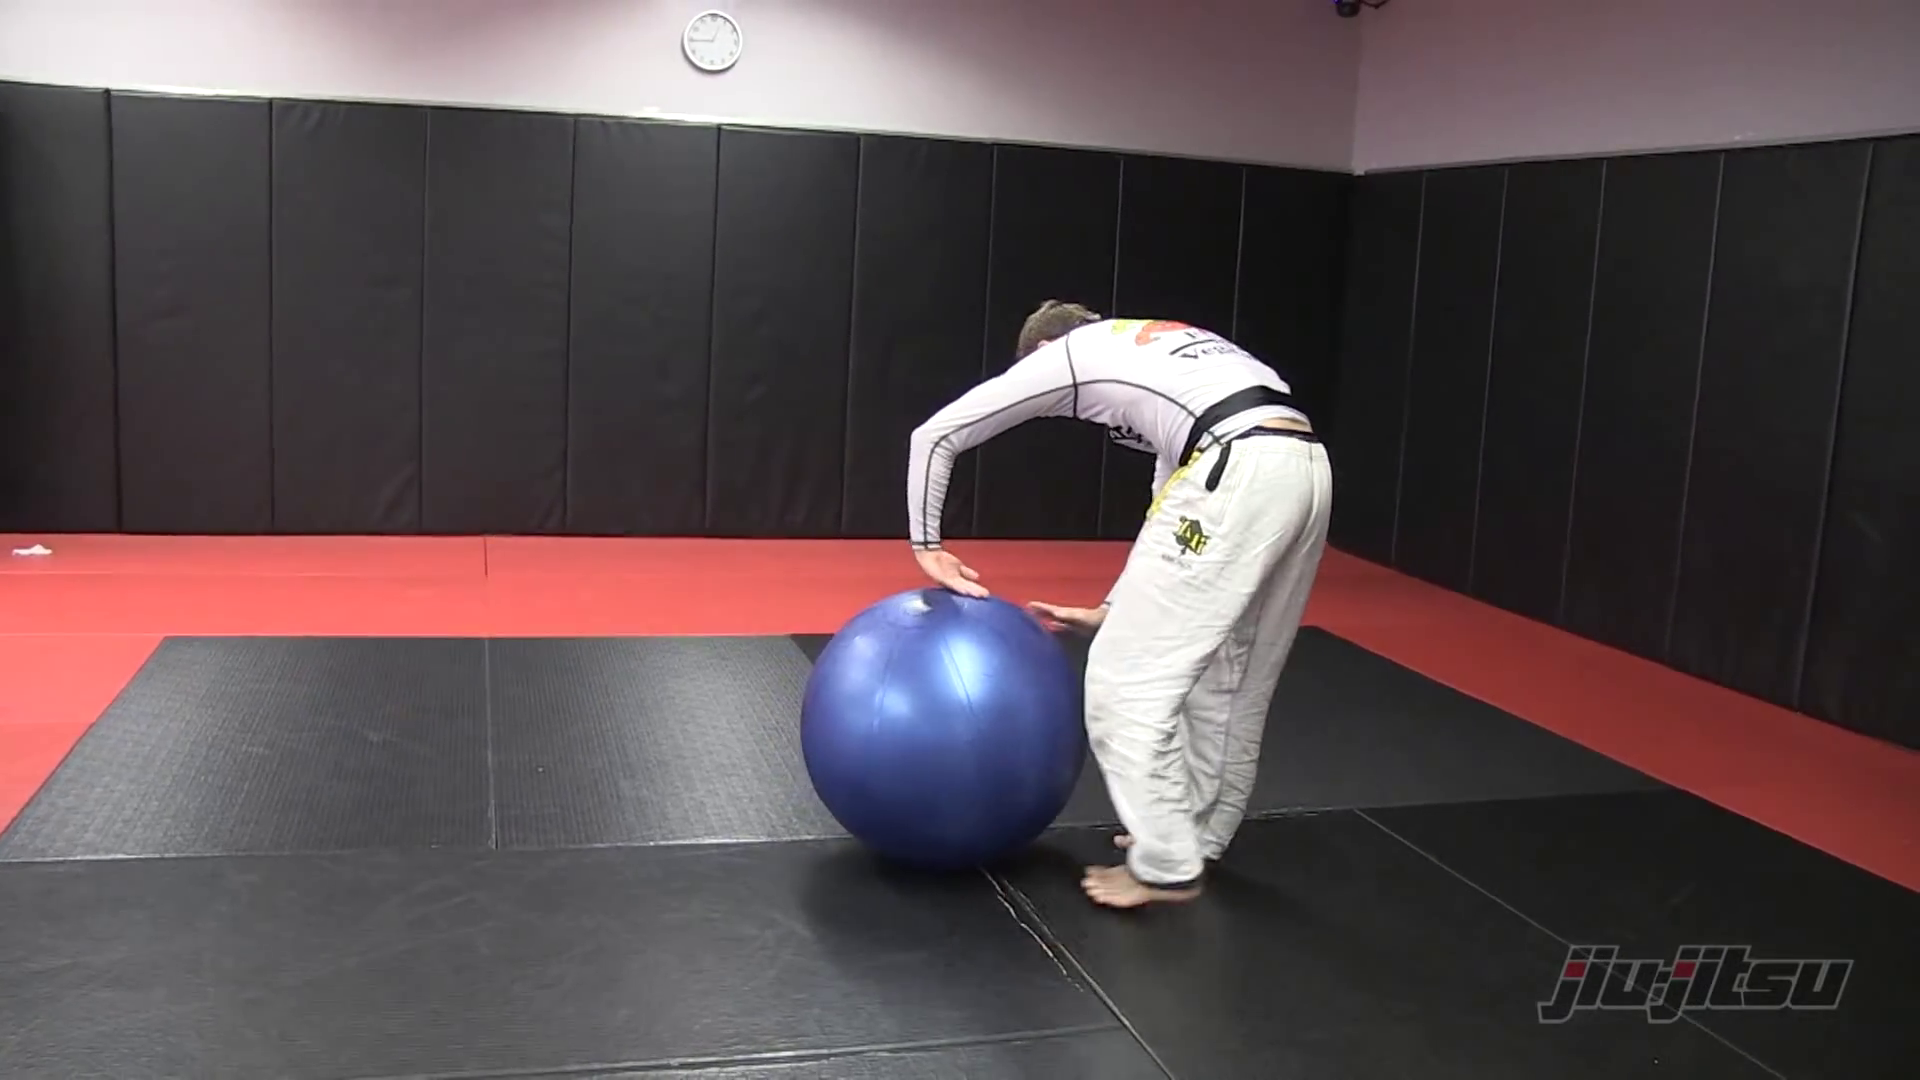yogaball: (795, 570, 1095, 881)
